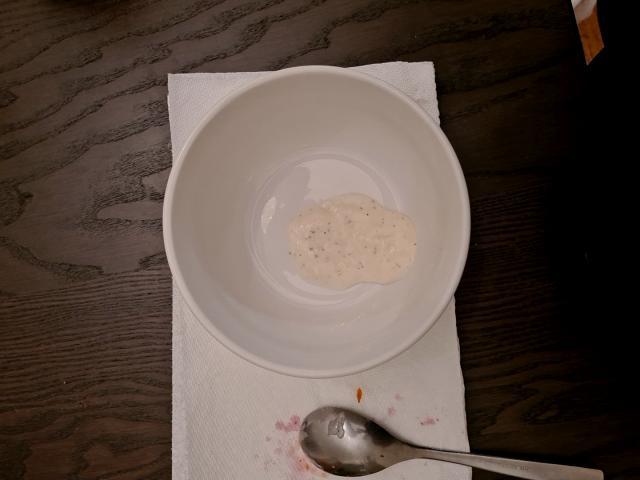kichen waste: (290, 194, 417, 288)
